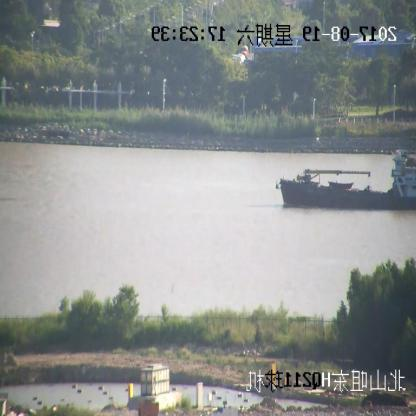Bulk Carrier: (276, 148, 416, 206)
